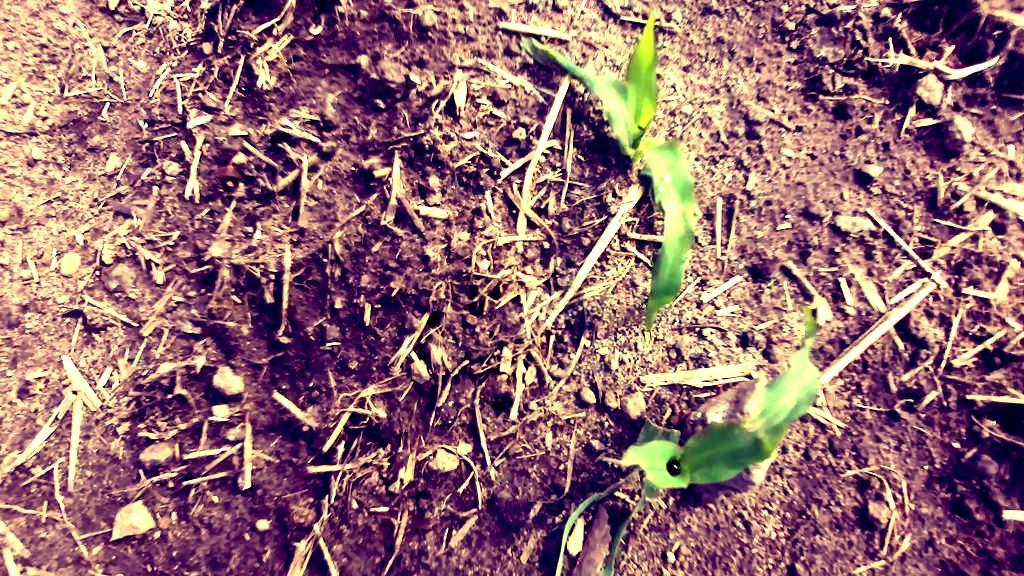BroWeed: (982, 341, 995, 352)
Maize: (511, 297, 867, 576), (520, 4, 726, 356)
